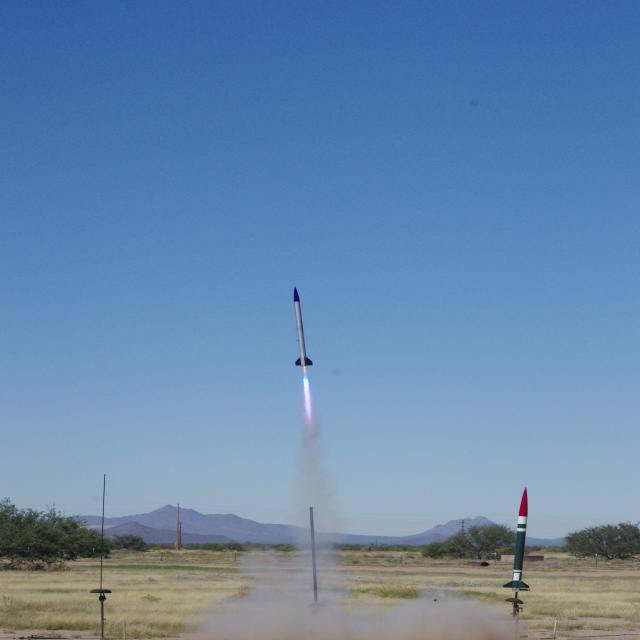Rocket: (502, 487, 530, 592), (292, 286, 314, 367)
